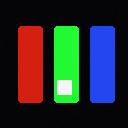1 square: (57, 80, 71, 94)
